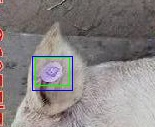text: (35, 57, 69, 85)
